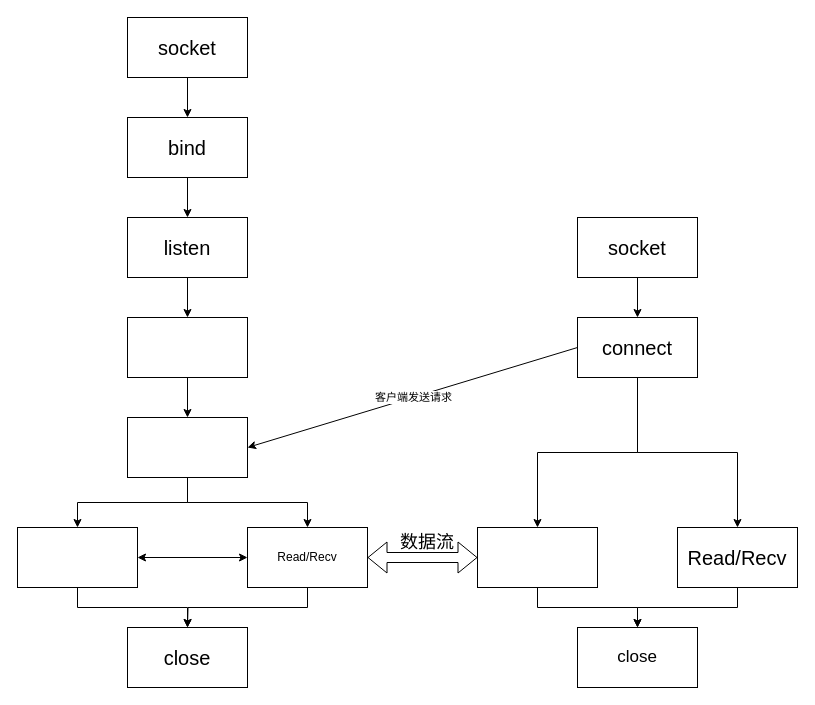
The diagram is 815 pixels wide and 705 high, and some of its shapes have lost their labels. Here are the shapes that lost their labels. From the top down, the centre of each, then its label:
(187,347): accept
(187,447): 创建套接字符描述符
(77,557): Wrire/Read
(537,557): write/send
